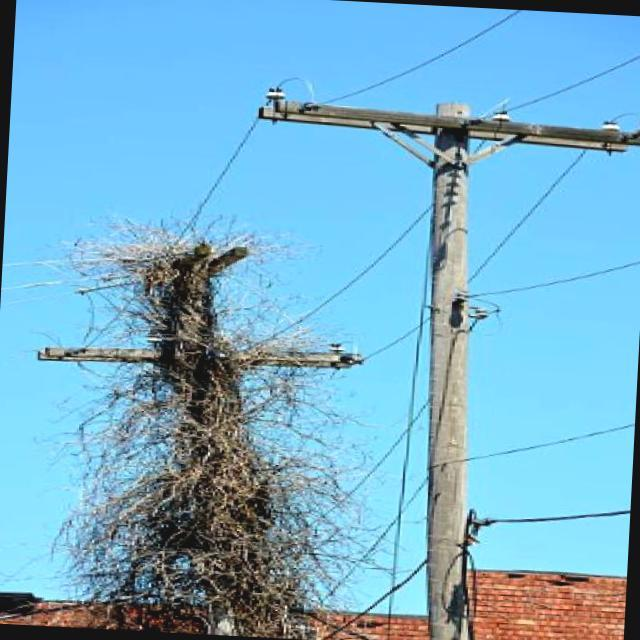light_pole: (86, 210, 326, 632)
